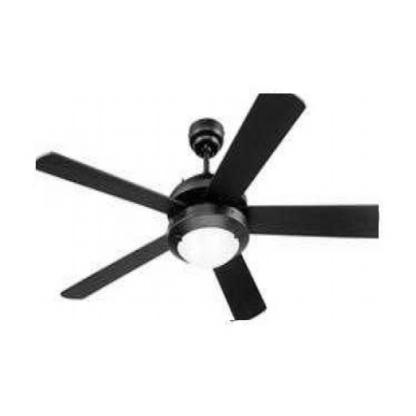ceiling-fan: (36, 93, 379, 321)
